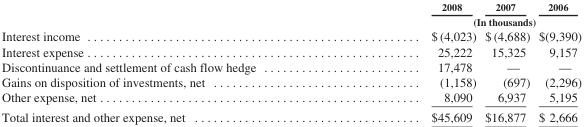table: (1, 0, 581, 124)
table column: (1, 0, 342, 124), (342, 0, 480, 124), (480, 0, 533, 124), (533, 0, 581, 124)
table column header: (1, 0, 581, 28)
table row: (1, 106, 581, 124), (1, 89, 581, 106), (1, 58, 581, 74), (1, 28, 581, 43), (1, 43, 581, 58), (1, 74, 581, 89), (1, 0, 581, 14), (1, 14, 581, 28)
table spanning cell: (342, 14, 581, 28)
